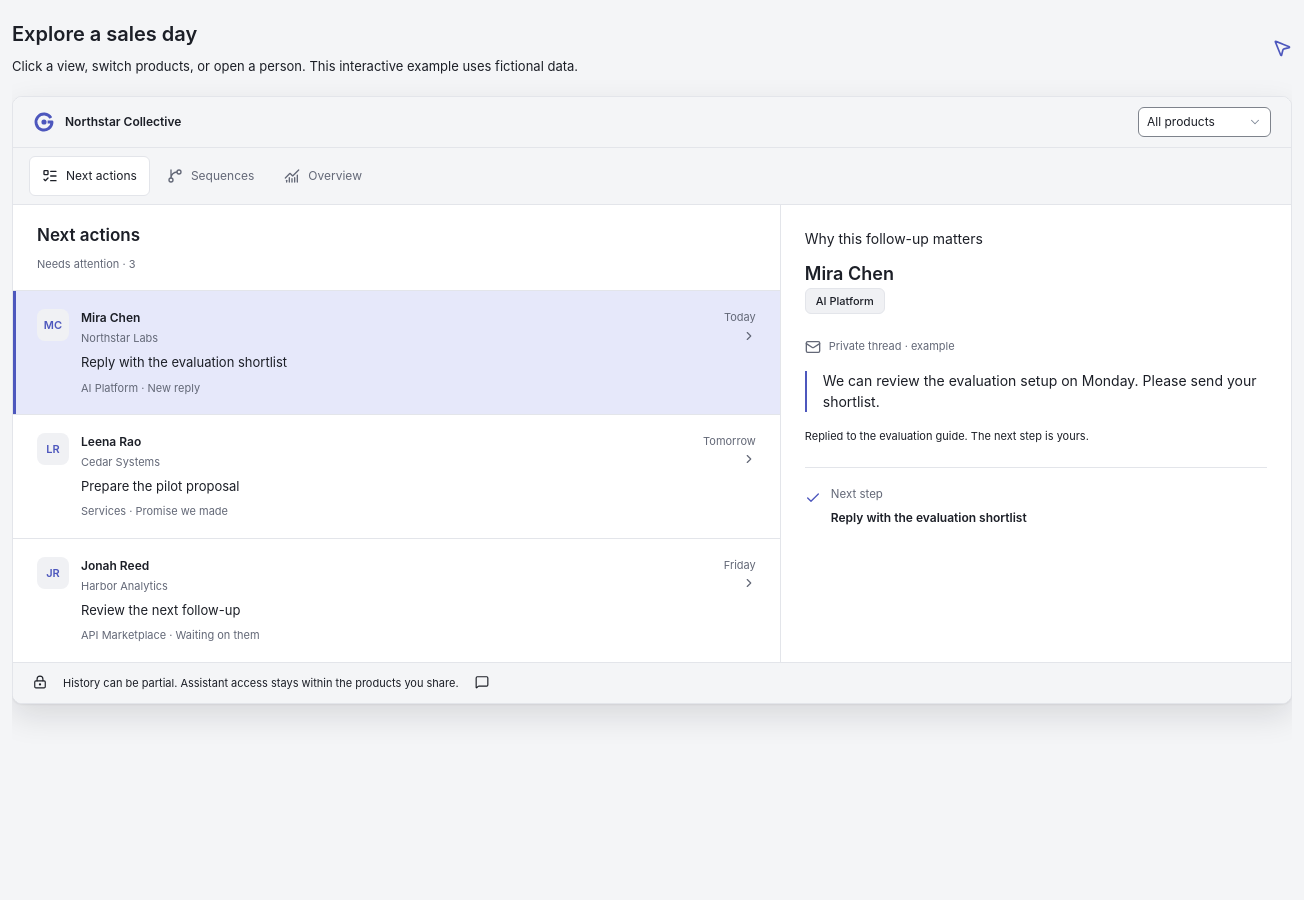
Test: product switching narrows the queue and updates the context without retaining a different product's contact
Step 1. Select "API Marketplace" in the dropdown → (1204, 122), box x1=1138 y1=107 x2=1271 y2=137
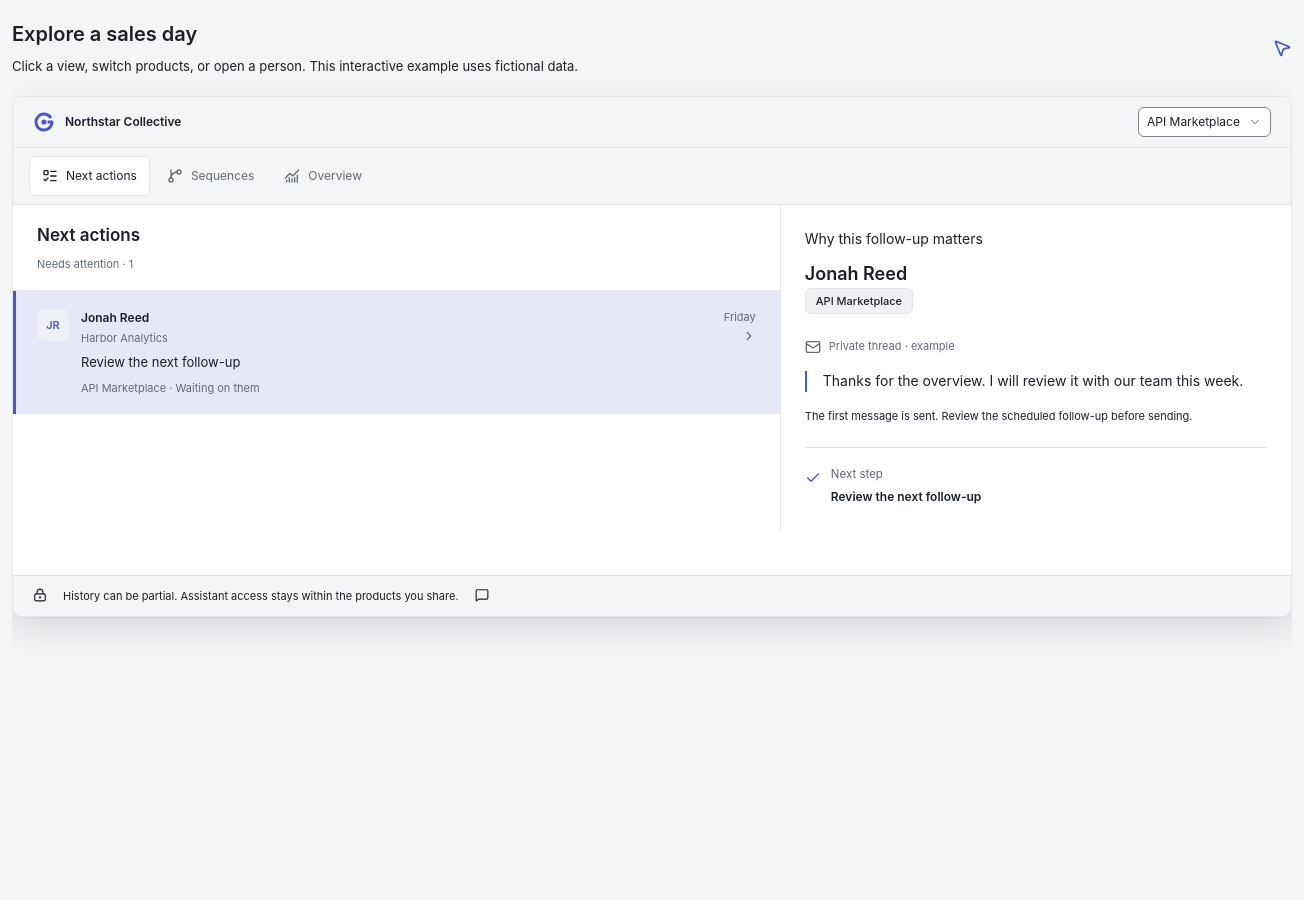
expect the text "Thanks for the overview. I will review it with our team this week." is shown: met, box x1=805 y1=371 x2=1267 y2=392
expect the button "Mira Chen" is gone: met
Step 2. Select "All products" in the dropdown → (1204, 122), box x1=1138 y1=107 x2=1271 y2=137
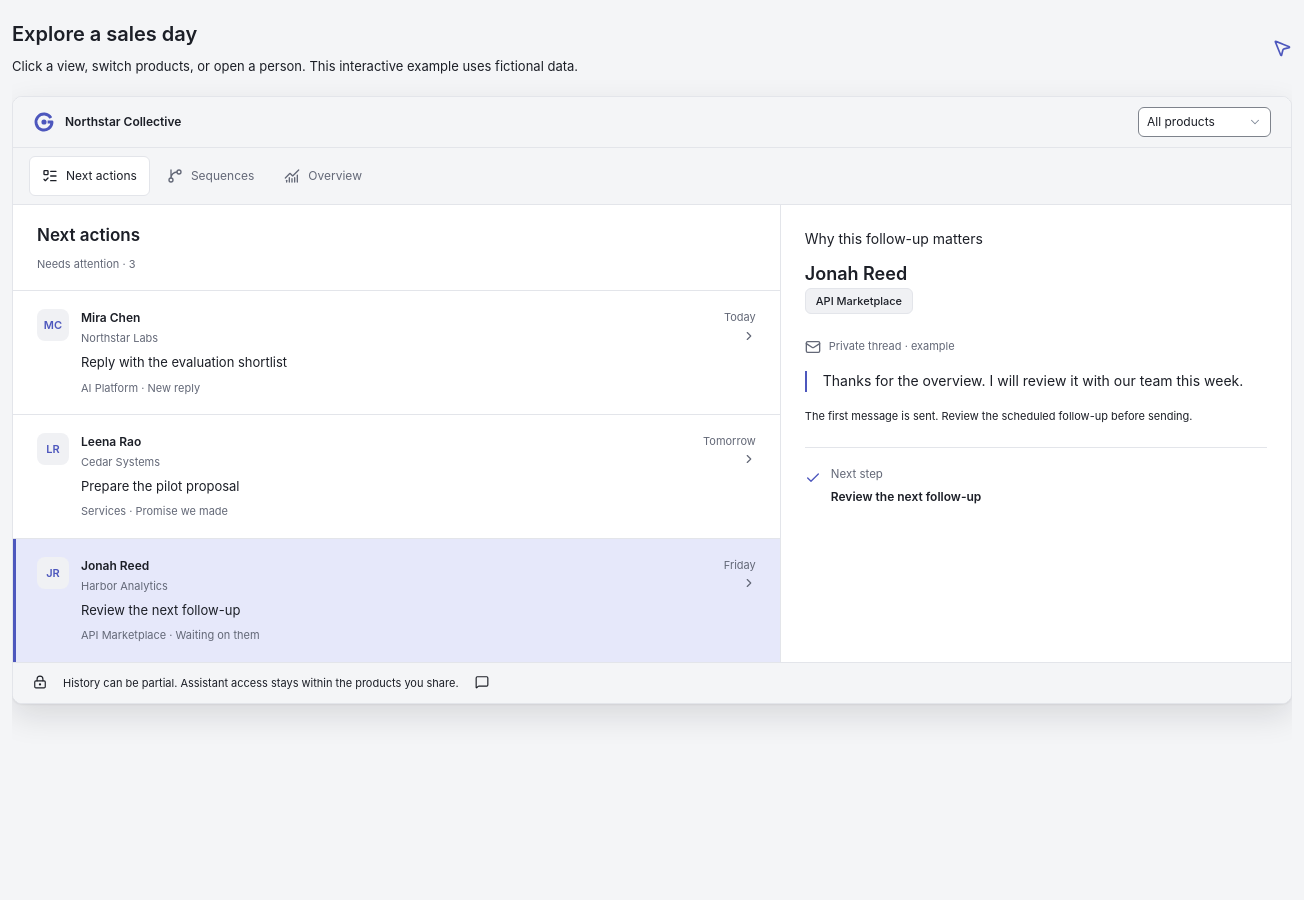
expect the button "Mira Chen" is shown: met, box x1=13 y1=290 x2=780 y2=414
